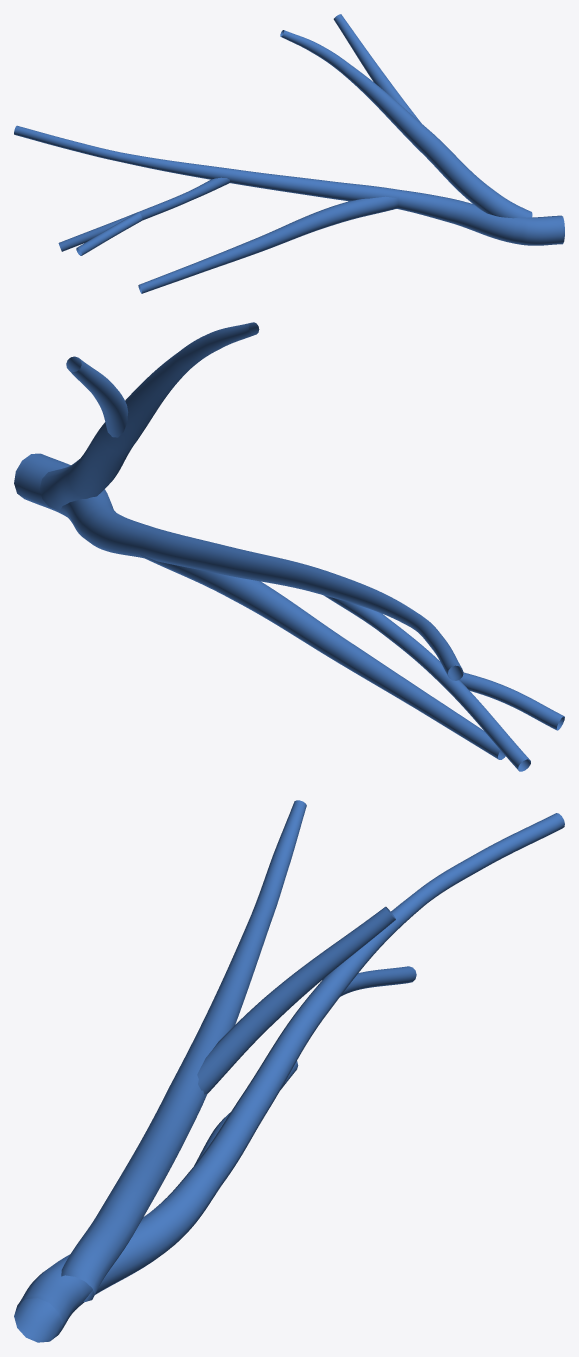
3 renders of one model, top to bottom at view 1: azimuth 30°, elevation 25°; view 2: azimuth 150°, elevation 25°; view 3: azimuth 270°, elevation 25°, orthographic. The views are drawn at different scales.
Visible parts, largest first — view 1: 右肺底上静脉; view 2: 右肺底上静脉; view 3: 右肺底上静脉.
Boxes of the visible parts, x1=… form: 右肺底上静脉: x1=14, y1=14, x2=564, y2=293; 右肺底上静脉: x1=14, y1=322, x2=564, y2=771; 右肺底上静脉: x1=14, y1=800, x2=564, y2=1342.
Size of the model in its own units: 0.1441 by 0.0765 by 0.096.
